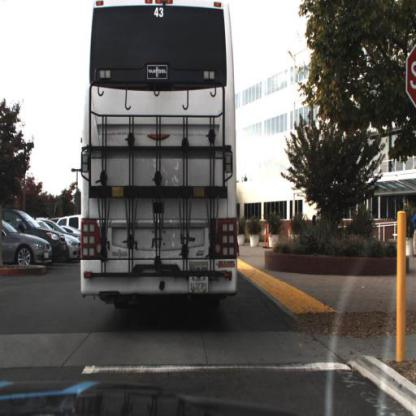car: (1, 220, 53, 271), (37, 223, 67, 264), (59, 213, 84, 230)
pedestrian: (406, 197, 416, 267), (410, 204, 416, 258), (235, 220, 242, 258), (412, 212, 416, 256)
truck: (76, 2, 241, 310)
